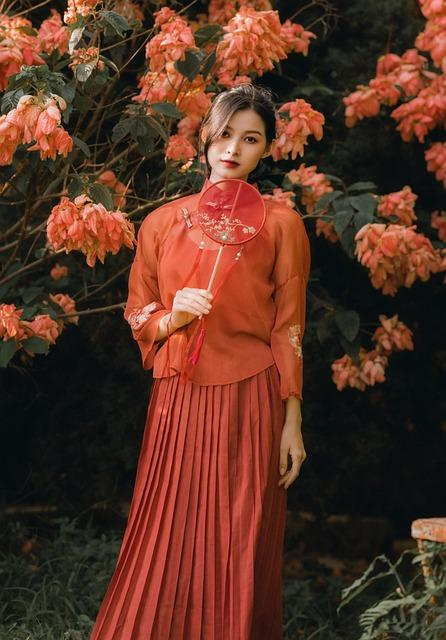Non_Gorille: (7, 47, 399, 607)
